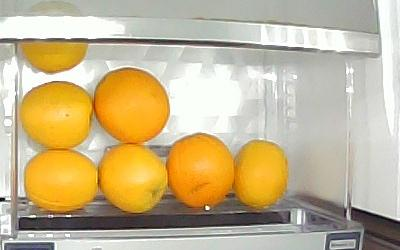orange: (95, 69, 170, 143), (167, 134, 235, 210), (20, 81, 94, 149), (99, 145, 167, 214), (24, 151, 99, 212), (234, 140, 290, 209), (20, 39, 88, 73)
